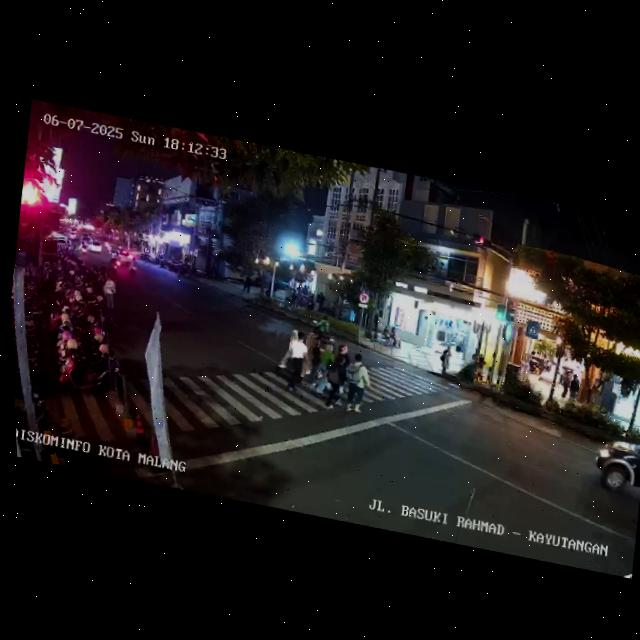car: (587, 427, 640, 509)
motorcycle: (308, 313, 339, 346)
person: (339, 351, 374, 416), (320, 353, 351, 414), (283, 330, 312, 395), (304, 332, 328, 394), (315, 342, 338, 398), (275, 327, 299, 373), (98, 272, 122, 312), (567, 369, 583, 403), (437, 342, 452, 376), (557, 367, 571, 401), (336, 344, 351, 367), (639, 402, 640, 435)
